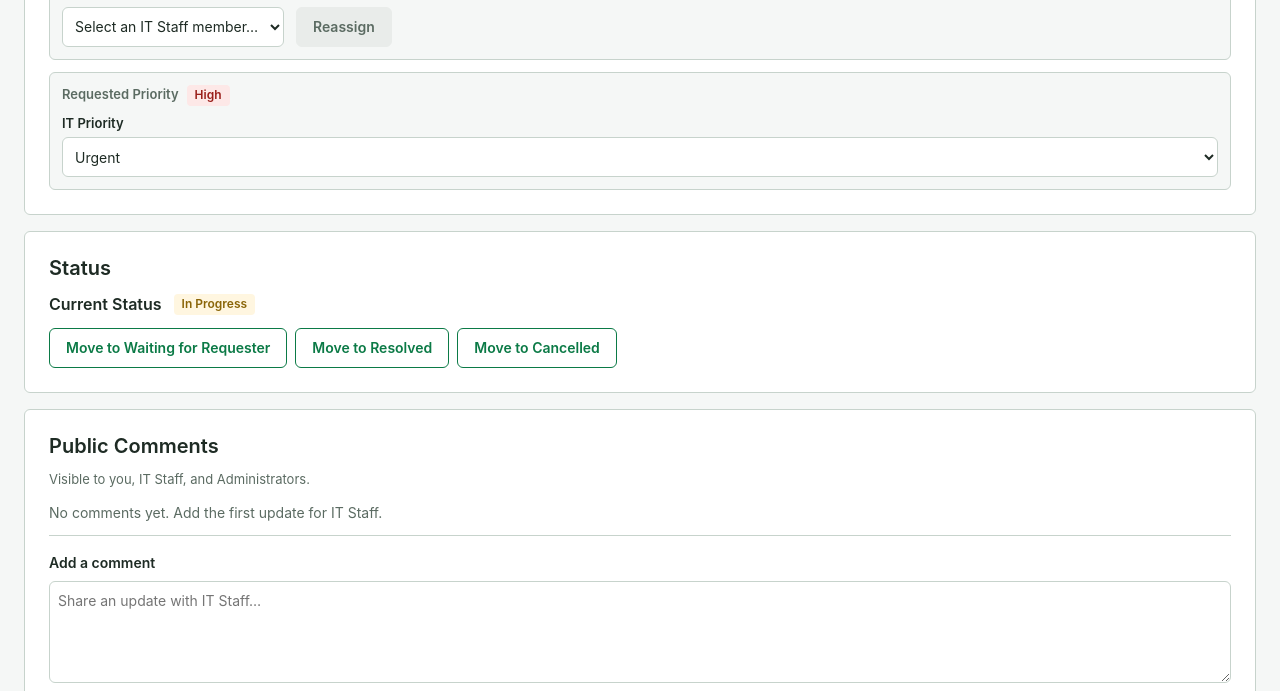
Scenario: UI-10 — Ticket Detail automated accessibility (ui-spec §9) › has no axe violations with the status confirmation dialog open
(page scrolled)
Step 1. Click the button with test id "workflow-transition-CANCELLED" → (537, 348), box x1=457 y1=328 x2=617 y2=368
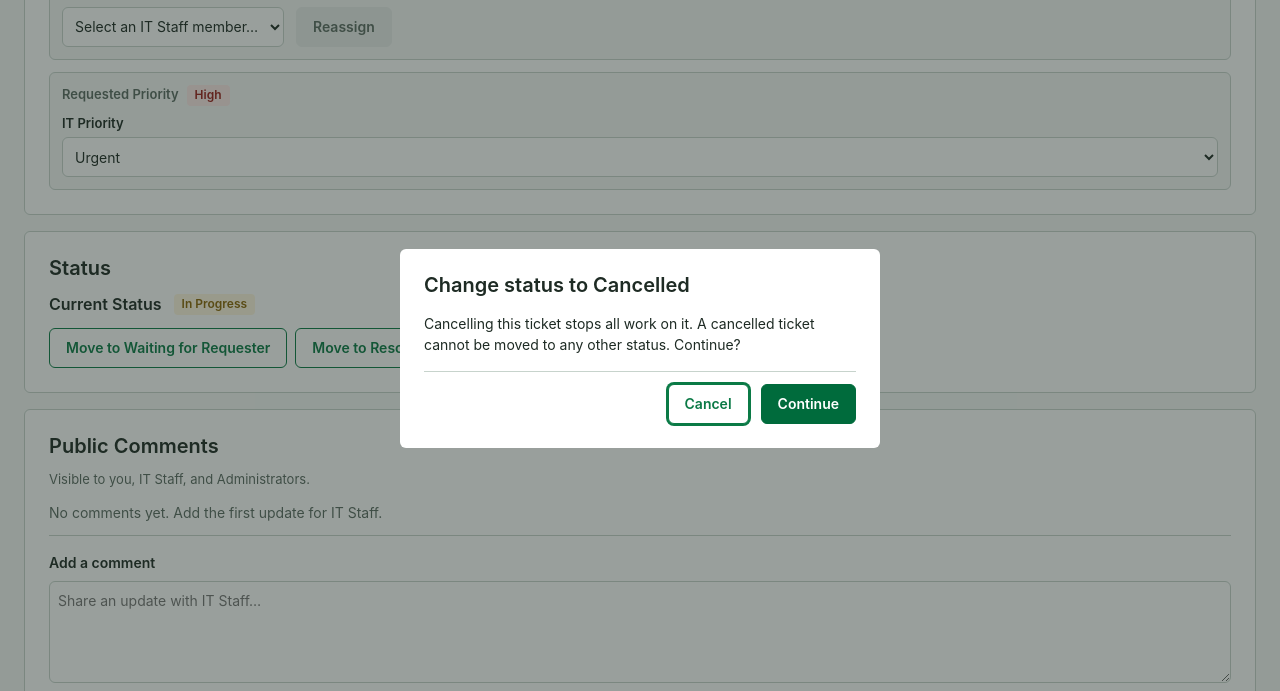
Expected: the heading "Change status to Cancelled" is shown, x1=424 y1=272 x2=690 y2=296
